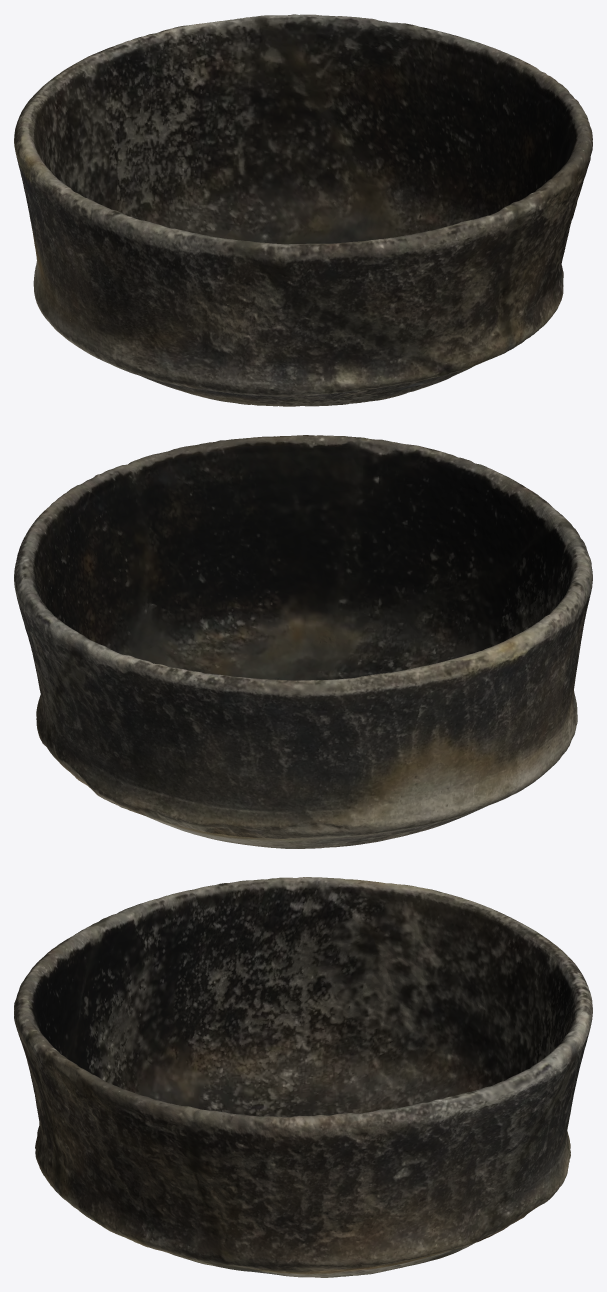
3 renders of one model, top to bottom at view 1: azimuth 30°, elevation 25°; view 2: azimuth 150°, elevation 25°; view 3: azimuth 270°, elevation 25°, orthographic. The views are drawn at different scales.
Parts seen in each view (by area): view 1: Mesh_0.030; view 2: Mesh_0.030; view 3: Mesh_0.030.
Boxes of the visible parts, x1,y1,x2,y2 form: Mesh_0.030: (14,14,592,406); Mesh_0.030: (14,435,592,848); Mesh_0.030: (14,877,592,1277).
Size of the model in its own units: 0.1965 by 0.0883 by 0.1967.
Materials: 1 (1 with a texture image).
